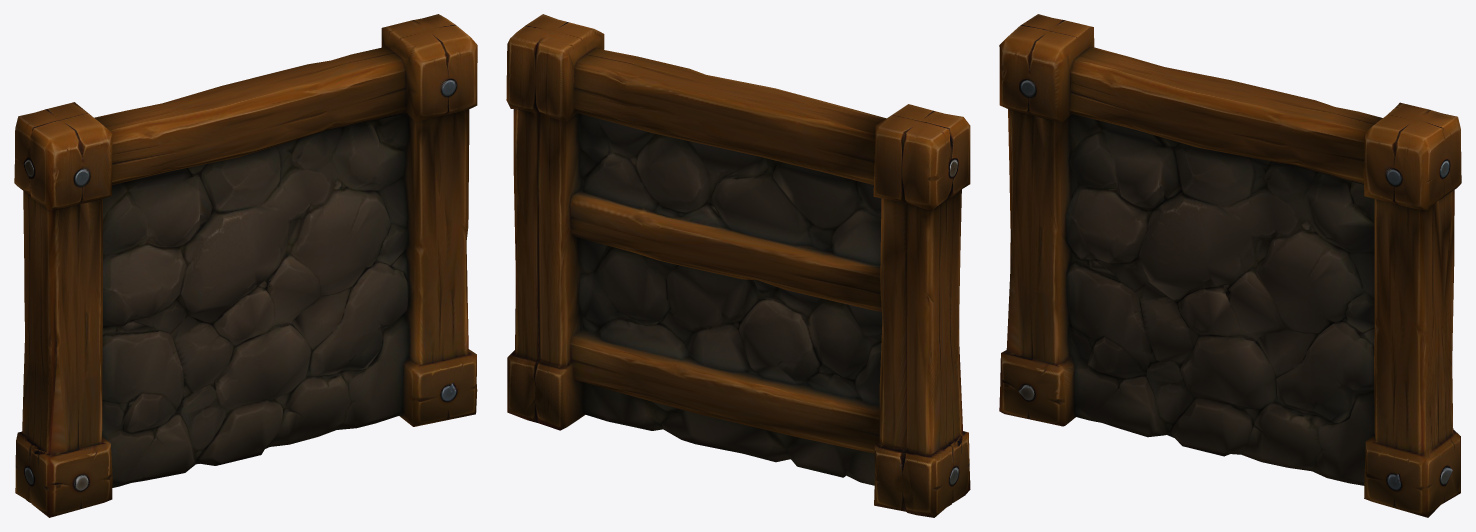
Rendered from muro_de_piedra.glb.
3 views of the same model, side by side, from view 1: azimuth 30°, elevation 25°; view 2: azimuth 150°, elevation 25°; view 3: azimuth 330°, elevation 25° (orthographic).
Visible parts, largest first — view 1: muro_de_piedra; view 2: muro_de_piedra; view 3: muro_de_piedra.
Part boxes in pixels (x1,y1,x2,y2): muro_de_piedra: (14,14,477,517); muro_de_piedra: (506,14,970,517); muro_de_piedra: (999,14,1461,517).
Size of what is drawn, in the model's own units: 2.99 by 2.5 by 0.4988.
1 material, 1 textured.
